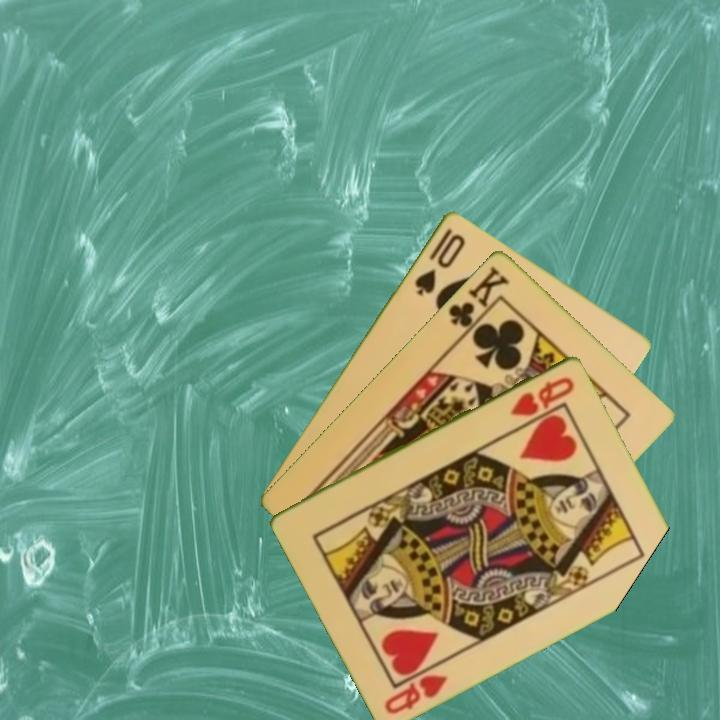10s: (411, 224, 468, 298)
Kc: (444, 262, 512, 339)
Qh: (381, 670, 451, 717), (507, 373, 578, 419)
